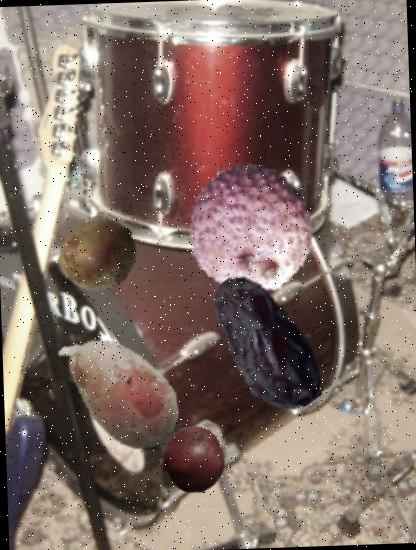Dates: (187, 268, 341, 422)
Lychee: (182, 161, 320, 299)
Onion: (59, 216, 141, 298)
Pomegranate: (158, 426, 228, 496)
Potato: (49, 316, 194, 462)
